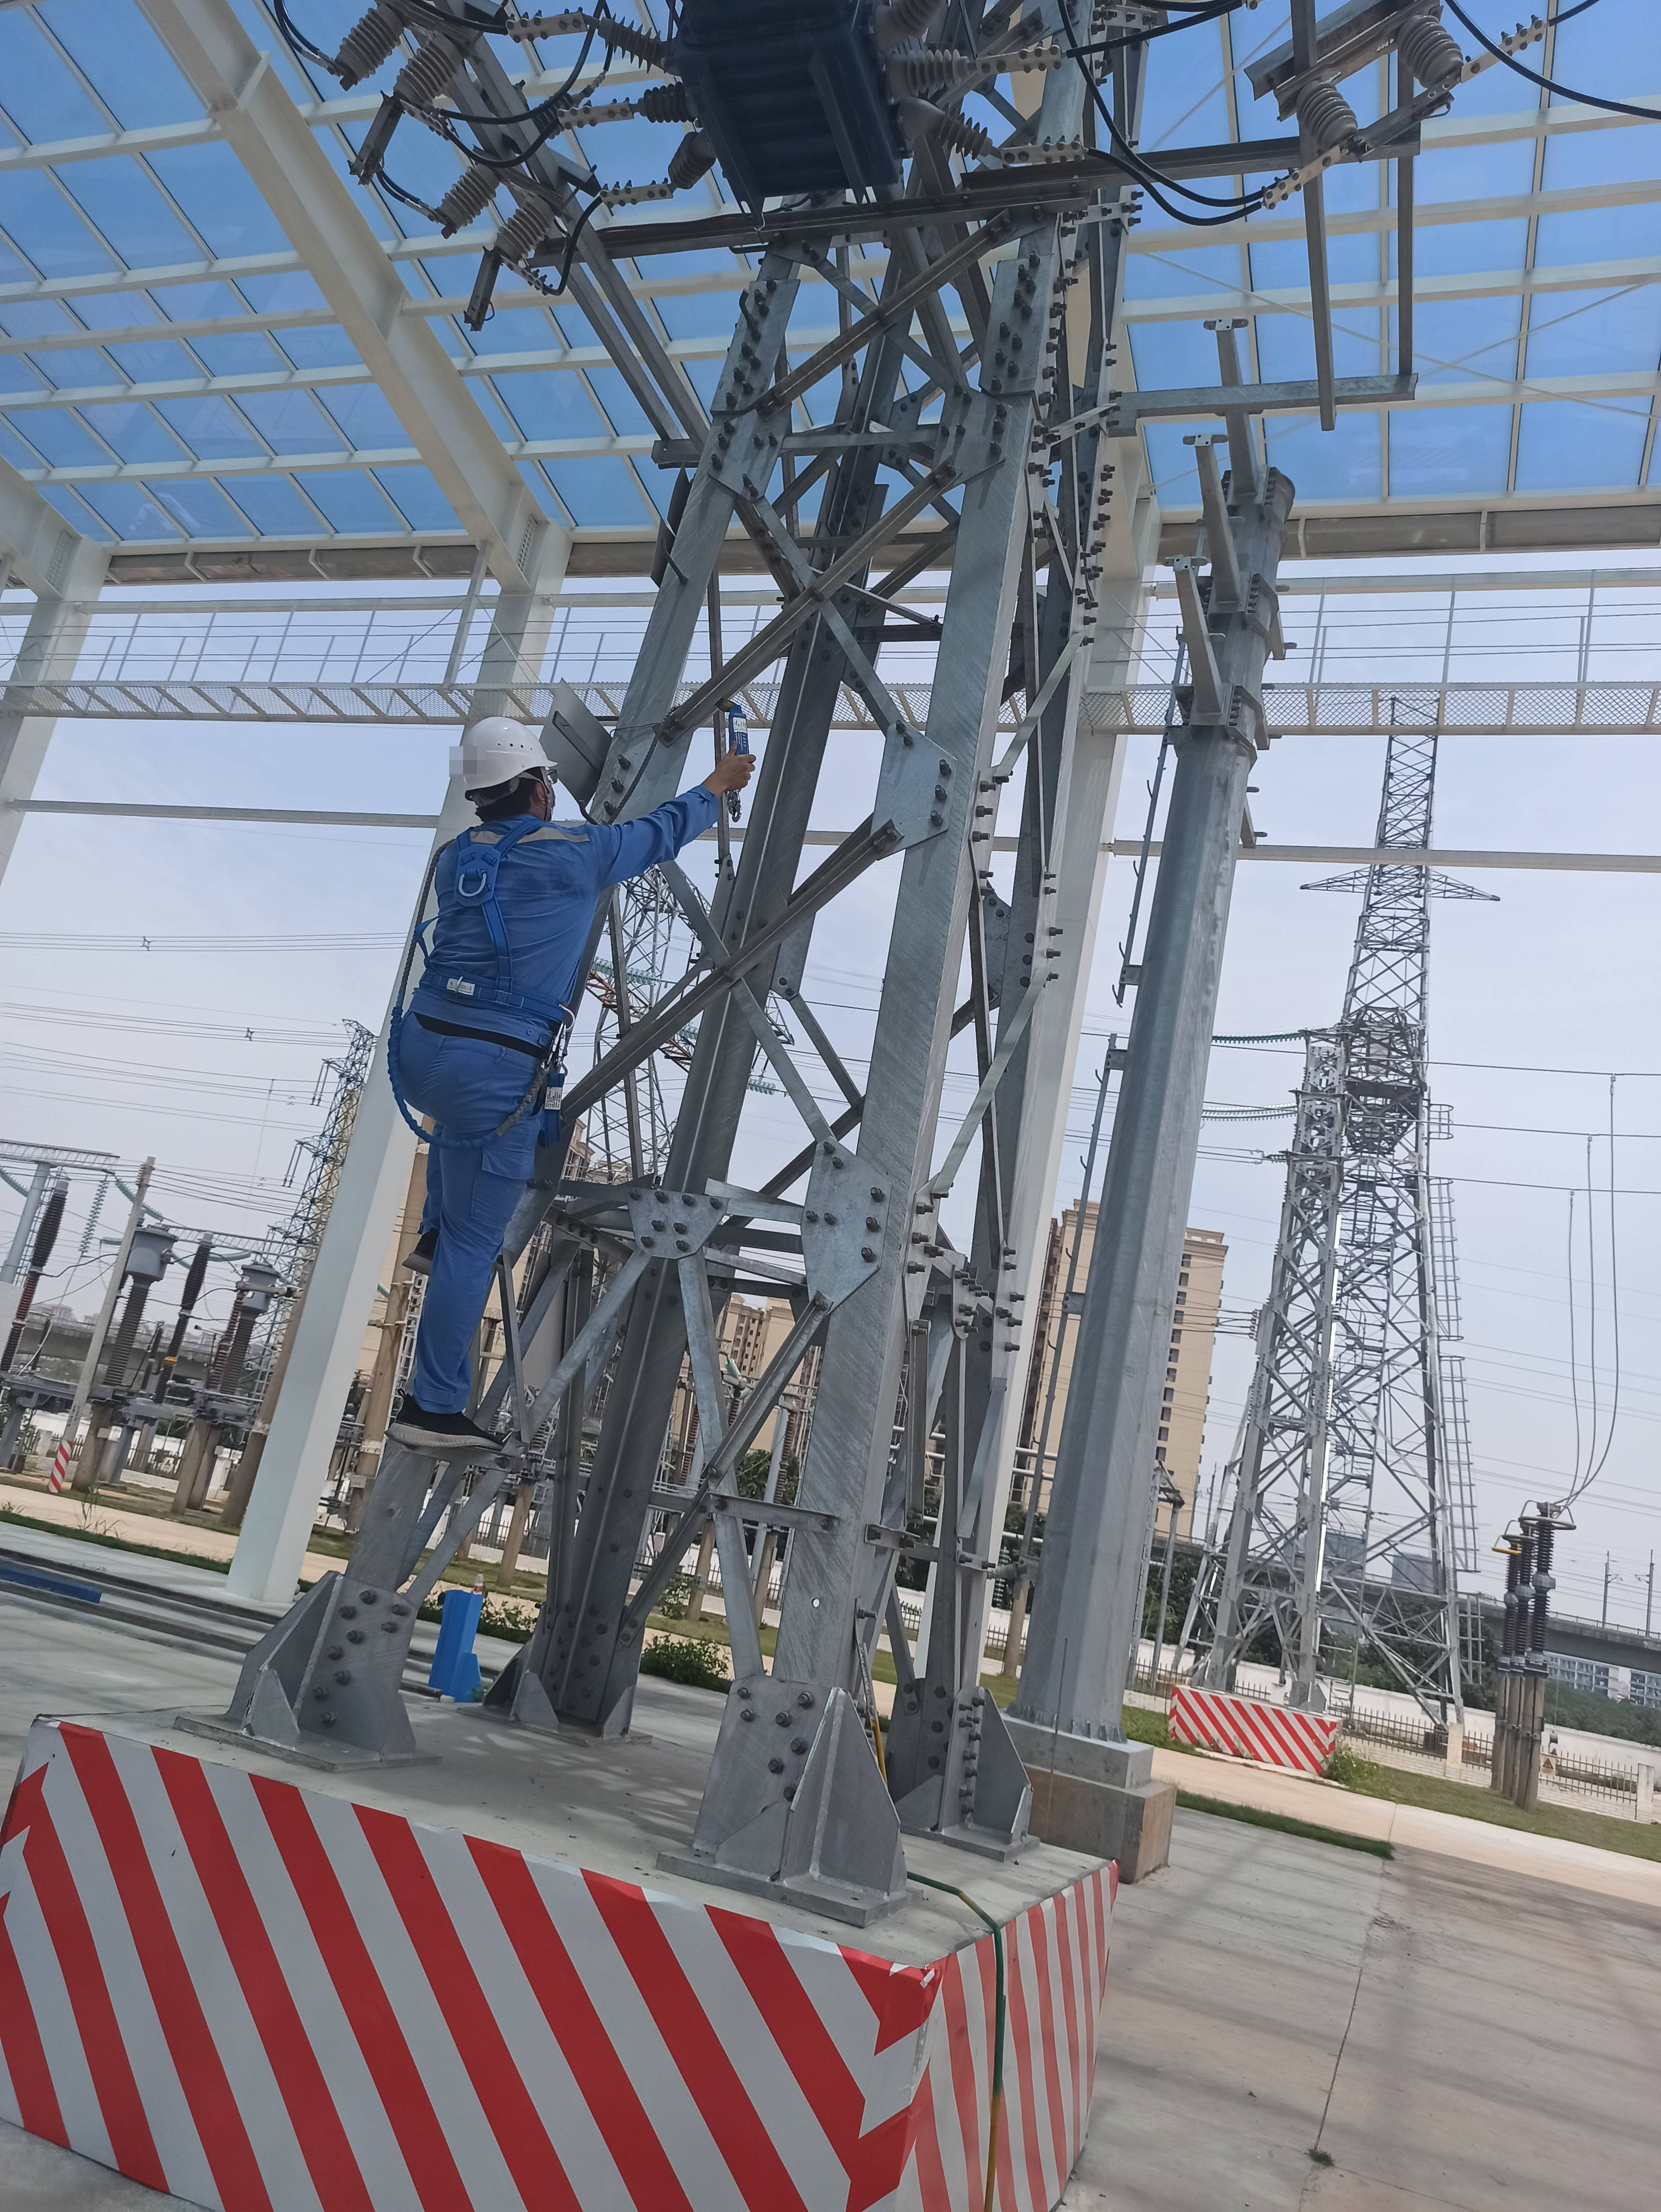downsuit: (393, 1052, 543, 1399)
upsuit: (403, 822, 595, 1038)
